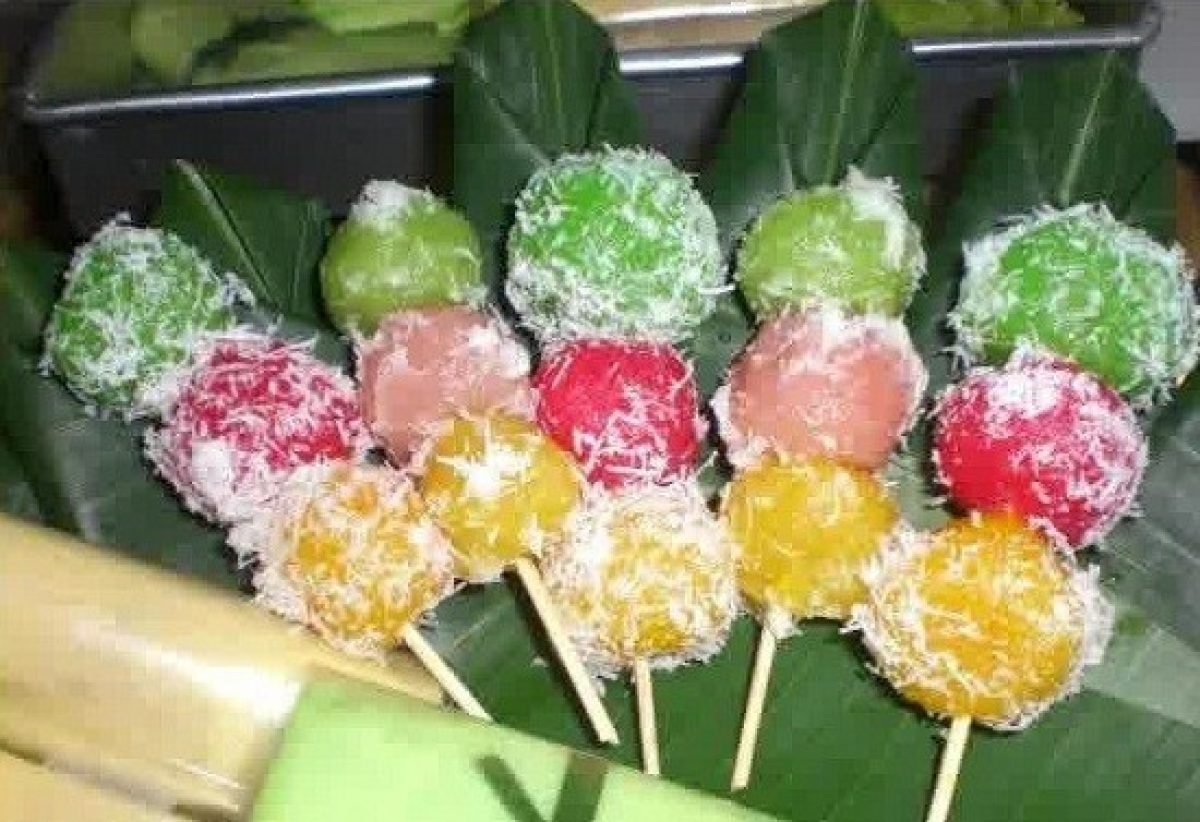klepon: (951, 207, 1200, 393), (137, 338, 355, 545), (508, 144, 730, 337), (57, 221, 215, 399), (529, 348, 712, 481)
